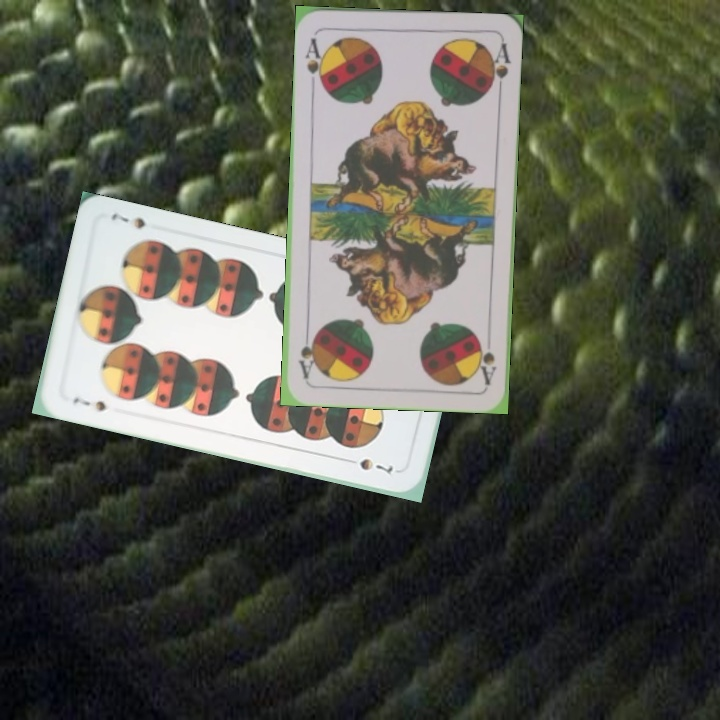S7: (68, 393, 112, 414)
SA: (301, 34, 328, 90), (474, 334, 499, 387)
